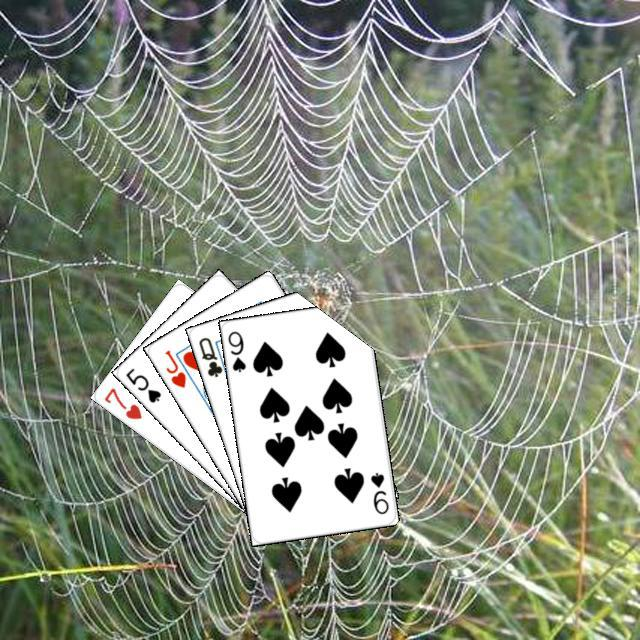5s: (121, 363, 163, 404)
7h: (99, 383, 144, 421)
9s: (365, 467, 390, 516), (223, 326, 247, 374)
Jh: (160, 345, 188, 390)
Qc: (194, 332, 230, 380)
